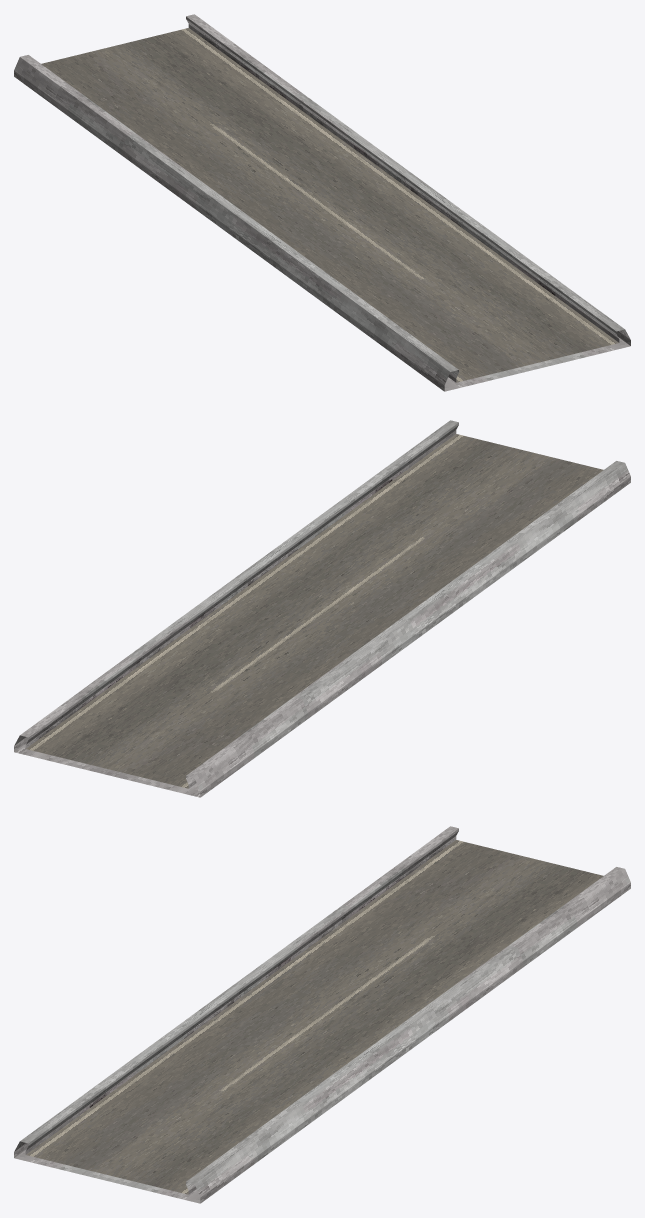
Rendered from road-Straight-Flat-Flat-Even-Center-Size4.glb.
The picture shows the model from 3 angles, top to bottom: view 1: azimuth 30°, elevation 25°; view 2: azimuth 150°, elevation 25°; view 3: azimuth 330°, elevation 25°; orthographic projection.
Visible parts, largest first — view 1: road-Straight-Flat-Flat-Even-Center-Size4; view 2: road-Straight-Flat-Flat-Even-Center-Size4; view 3: road-Straight-Flat-Flat-Even-Center-Size4.
Boxes of the visible parts, left/top/right/bottom form: road-Straight-Flat-Flat-Even-Center-Size4: left=14, top=14, right=630, bottom=391; road-Straight-Flat-Flat-Even-Center-Size4: left=14, top=420, right=630, bottom=797; road-Straight-Flat-Flat-Even-Center-Size4: left=14, top=826, right=630, bottom=1203.
Size of the model in its own units: 1 by 0.0938 by 4.
2 materials, 2 textured.
